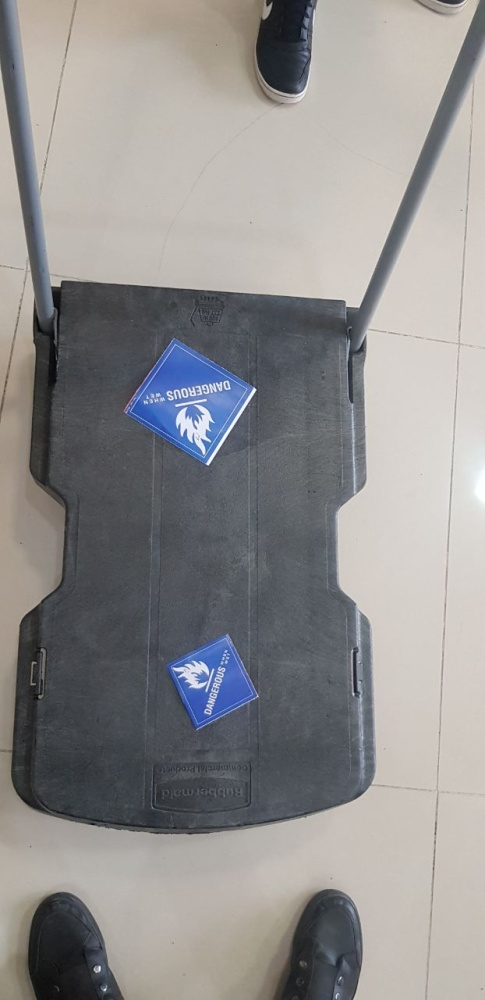Dangerous when wet: (123, 338, 257, 466), (166, 633, 259, 730)
